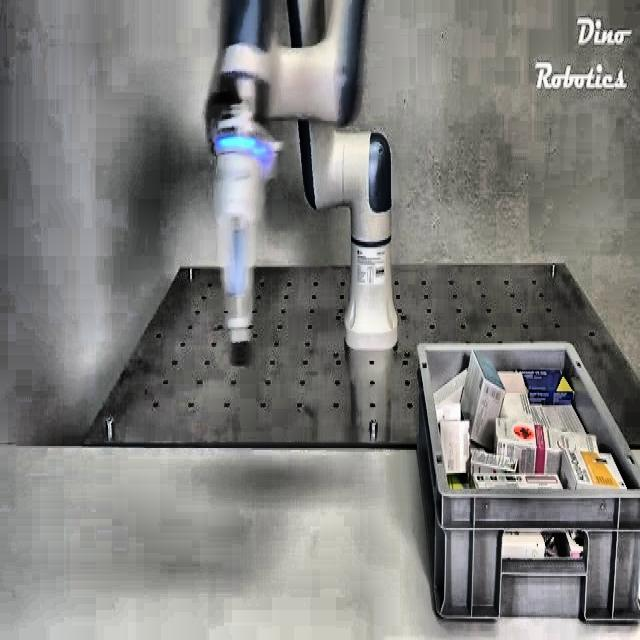robot: (204, 0, 398, 363)
